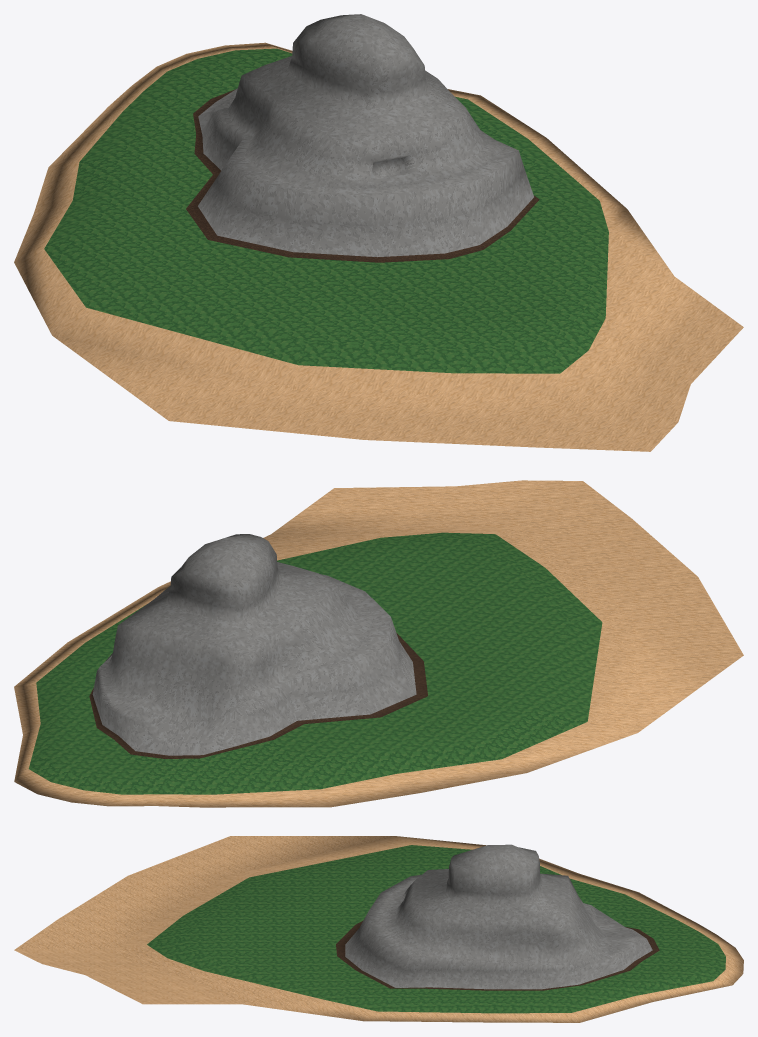
The model's file is island2.glb.
3 views of the same model, one above another, from view 1: azimuth 30°, elevation 25°; view 2: azimuth 150°, elevation 25°; view 3: azimuth 270°, elevation 25° (orthographic). The views are drawn at different scales.
Visible parts, largest first — view 1: island-col; view 2: island-col; view 3: island-col.
Boxes of the visible parts, bbox=[...] form: island-col: bbox=[14, 14, 743, 451]; island-col: bbox=[14, 480, 743, 807]; island-col: bbox=[14, 836, 743, 1022].
Bounding box in the file's own units: 30.7 × 8.8 × 48.65.
5 materials, 4 textured.
